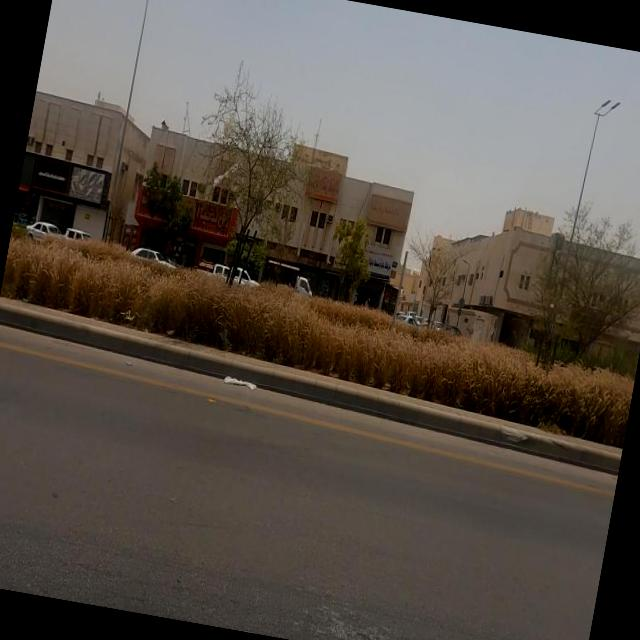debris: (272, 138, 386, 241), (182, 325, 288, 426), (40, 147, 144, 236)
